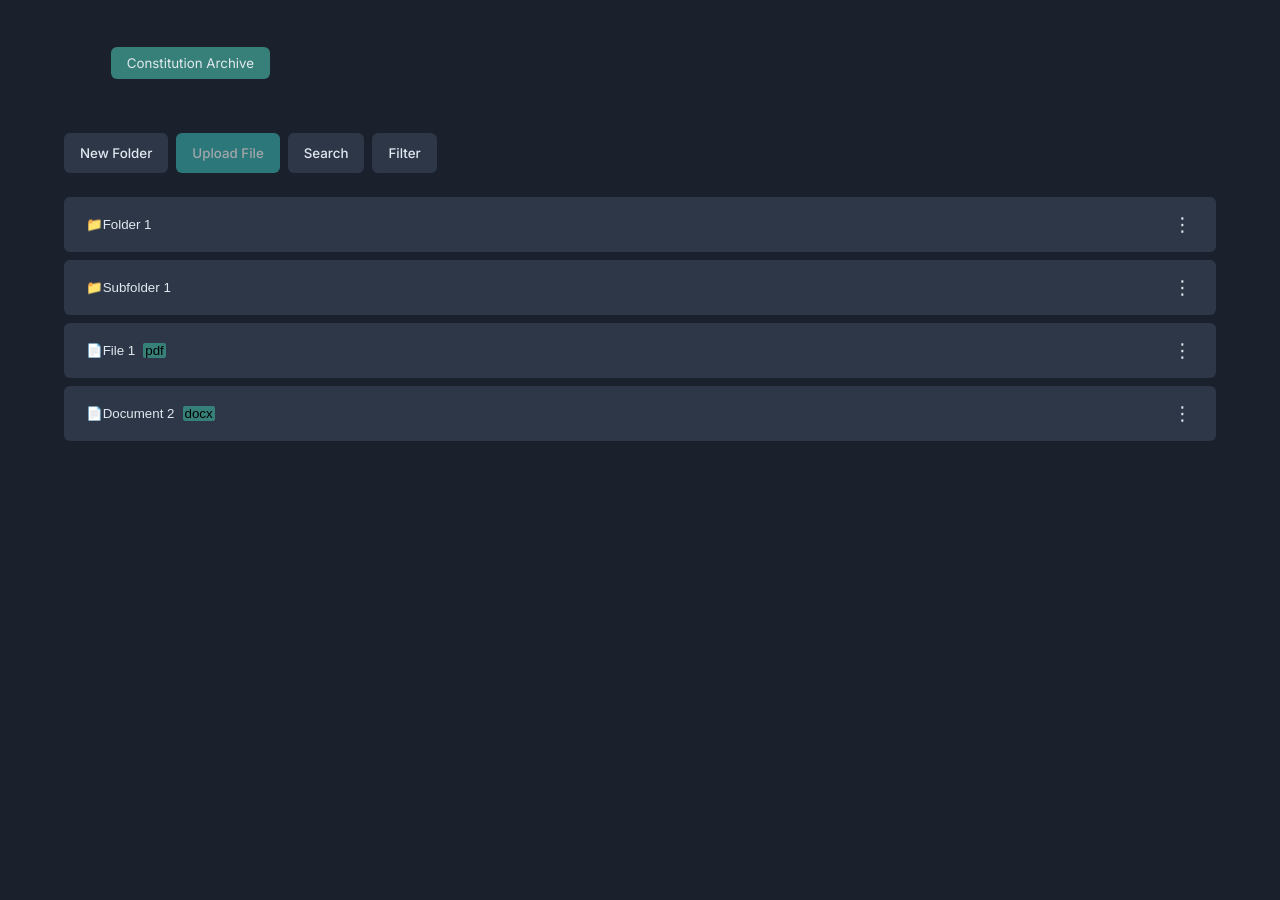
it: FolderBrowser Component › isDescendant detects folder hierarchy
The image size is (1280, 900).
Click the button with aria-label "Open folder Folder 1".
click(127, 225)  # box 80,216 -> 1153,233
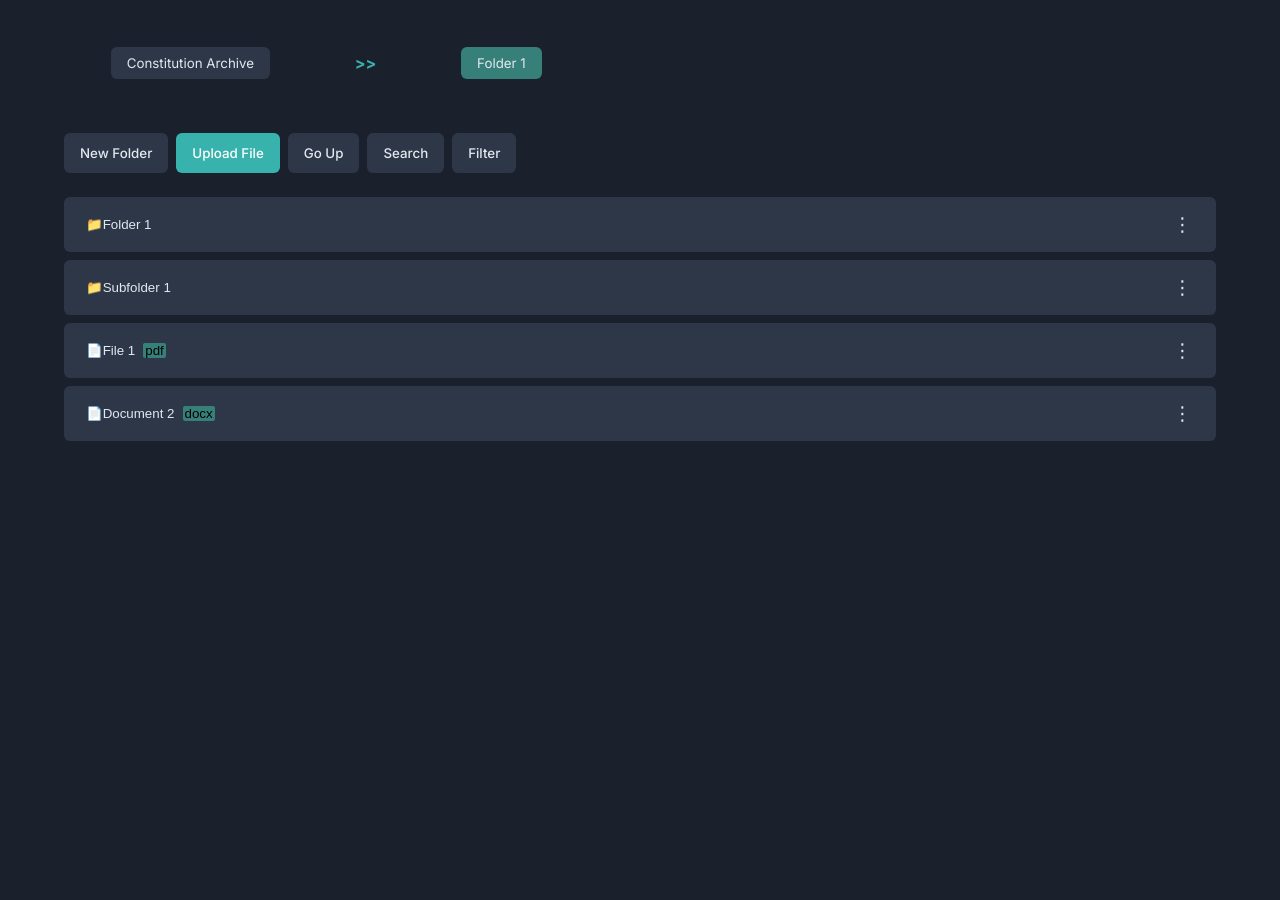
Expected: the button with aria-label "Open folder Subfolder 1" is shown, 80,279 -> 1153,296
Click the button named "More actions".
click(1182, 288)  # box 1165,276 -> 1200,299
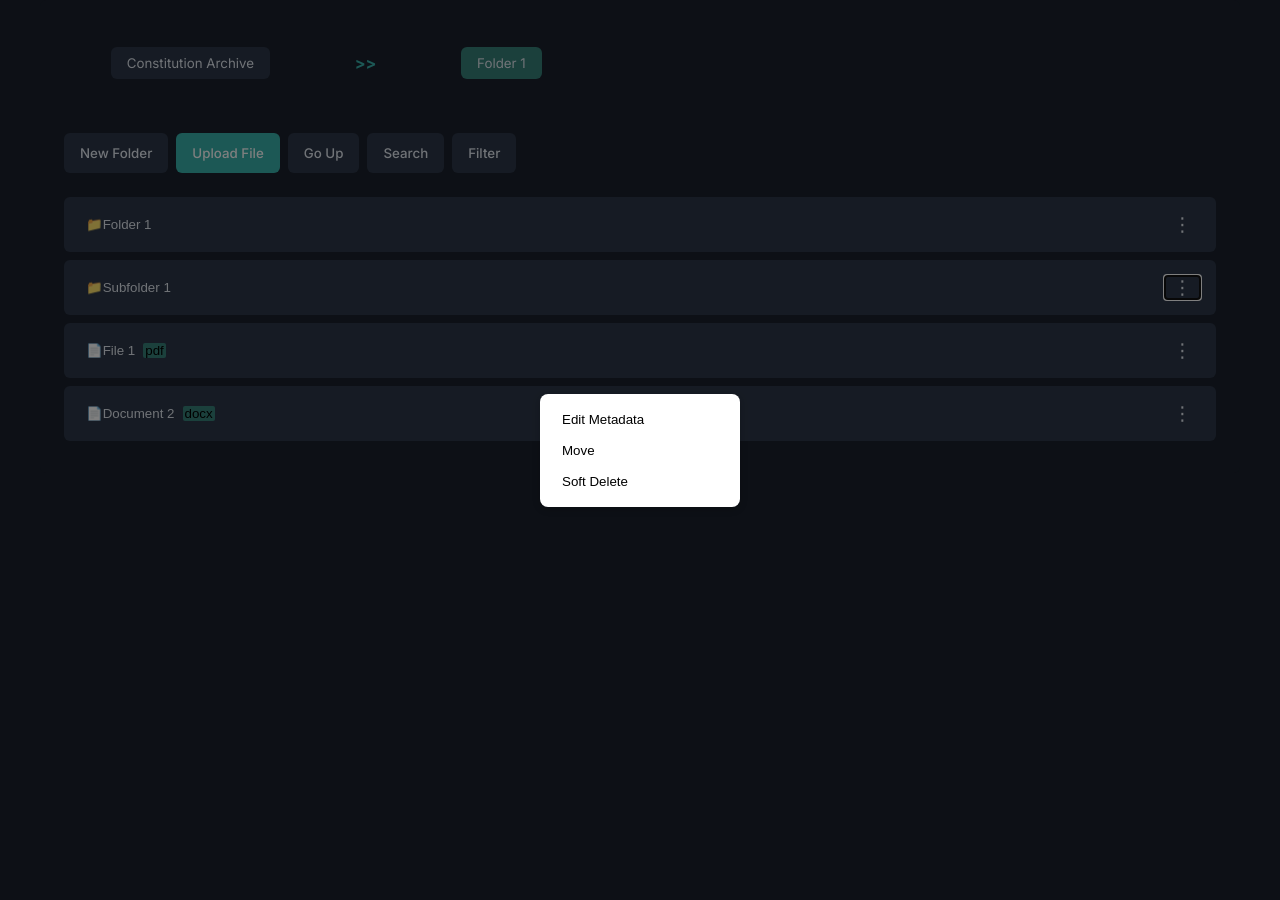
Click the button "Move".
click(640, 450)  # box 550,434 -> 730,466
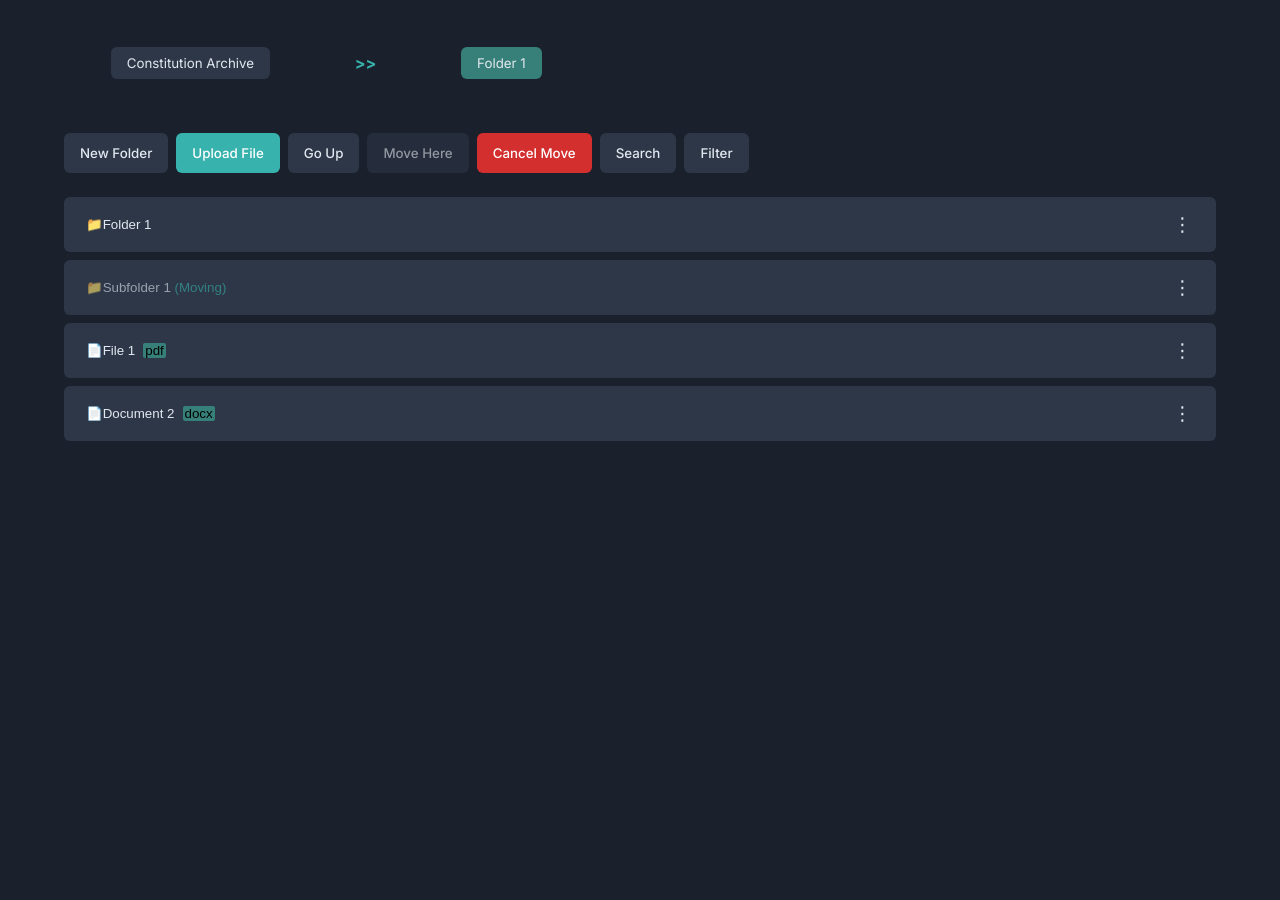
Now the button "Move Here" is disabled, box 367,133 -> 469,173
